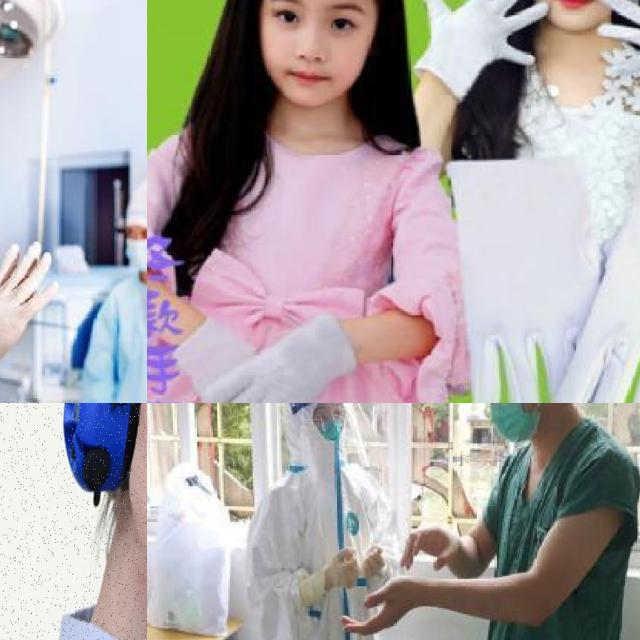No_Ear-Protection: (64, 403, 139, 492)
No_Glasses: (261, 0, 374, 48)
face_mask: (486, 403, 542, 451), (123, 221, 147, 275)
face_nomask: (259, 0, 379, 110)
hand_glove: (411, 0, 553, 82), (208, 317, 334, 403), (0, 241, 66, 363), (597, 0, 640, 86), (325, 547, 359, 591), (362, 545, 385, 580)
hand_noglove: (341, 576, 416, 636), (399, 522, 458, 573)
head_nohelmet: (288, 403, 351, 417)
person: (179, 0, 456, 403), (437, 0, 640, 403), (388, 403, 640, 640), (220, 403, 420, 640), (0, 44, 54, 403), (92, 167, 147, 403)
